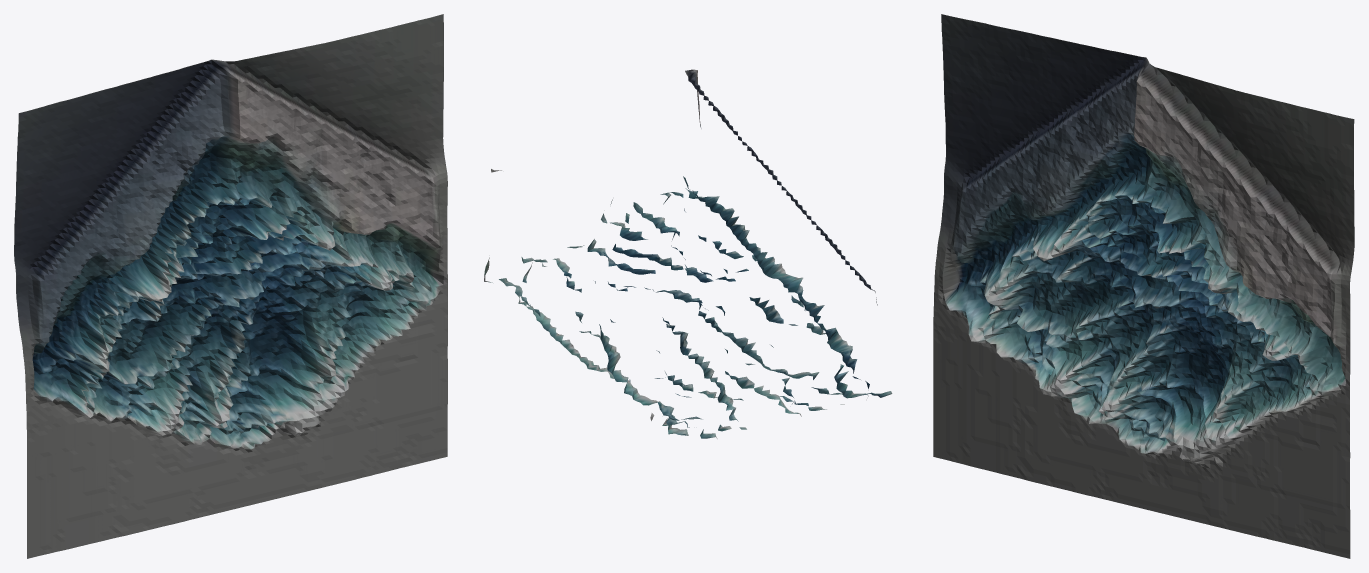
Rendered from water_surface.glb.
The picture shows the model from 3 angles, left to right: view 1: azimuth 30°, elevation 25°; view 2: azimuth 150°, elevation 25°; view 3: azimuth 330°, elevation 25°; orthographic projection.
Visible parts, largest first — view 1: world; view 2: world; view 3: world.
Boxes of the visible parts, x1,y1,x2,y2 form: world: [14, 14, 447, 558]; world: [484, 69, 892, 438]; world: [933, 14, 1354, 558].
Bounding box in the file's own units: 1 × 1 × 0.1306.
Materials: 1 (1 with a texture image).
